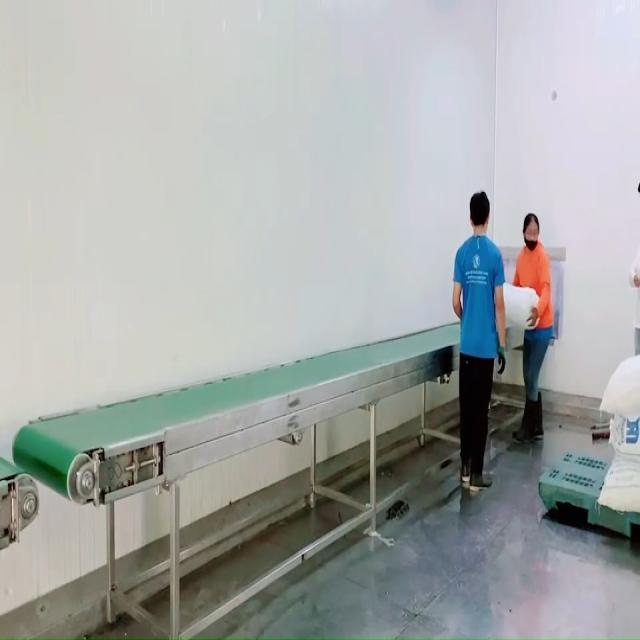ice-bag: (500, 268, 545, 335)
